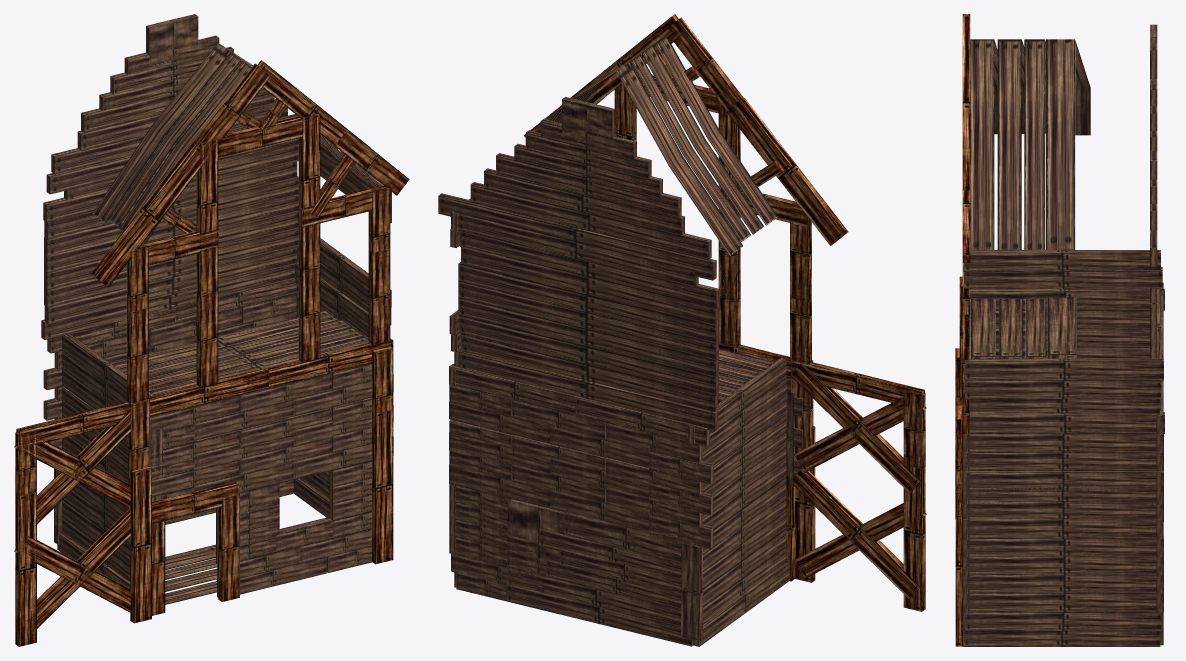
The model's file is Hut.FBX.
3 renders of one model, left to right at view 1: azimuth 30°, elevation 25°; view 2: azimuth 150°, elevation 25°; view 3: azimuth 270°, elevation 25°, orthographic. The views are drawn at different scales.
Visible parts, largest first — view 1: Plane003; view 2: Plane003; view 3: Plane003.
Part boxes in pixels (x1,y1,x2,y2): Plane003: (14,14,409,646); Plane003: (438,14,926,646); Plane003: (955,14,1164,646).
Bounding box in the file's own units: 286 × 367 × 127.
Materials: 2 (2 with a texture image).
